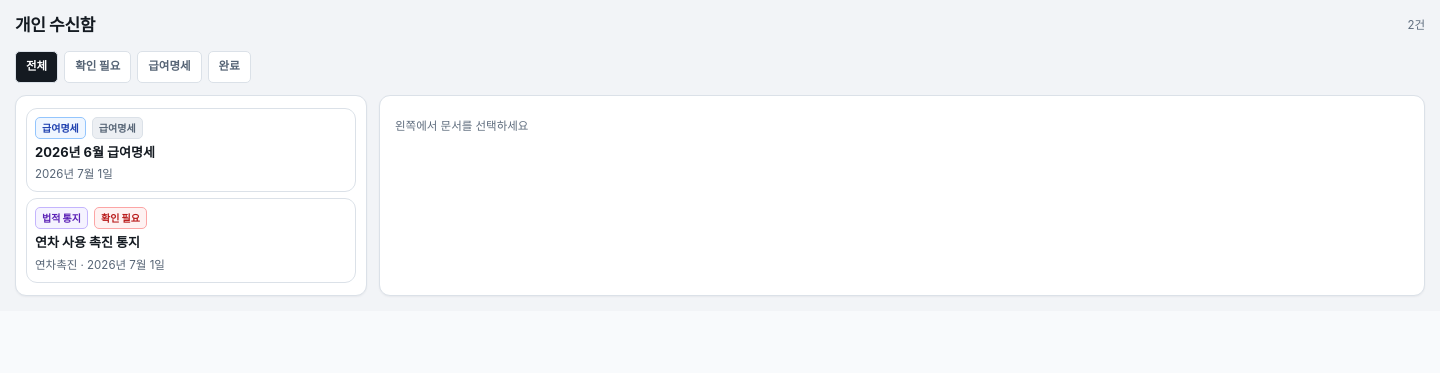
Scenario: InboxBody › does not let a receipt confirmation overwrite a newly selected document
Click the text "연차 사용 촉진 통지": (87,242) [35,234,140,250]
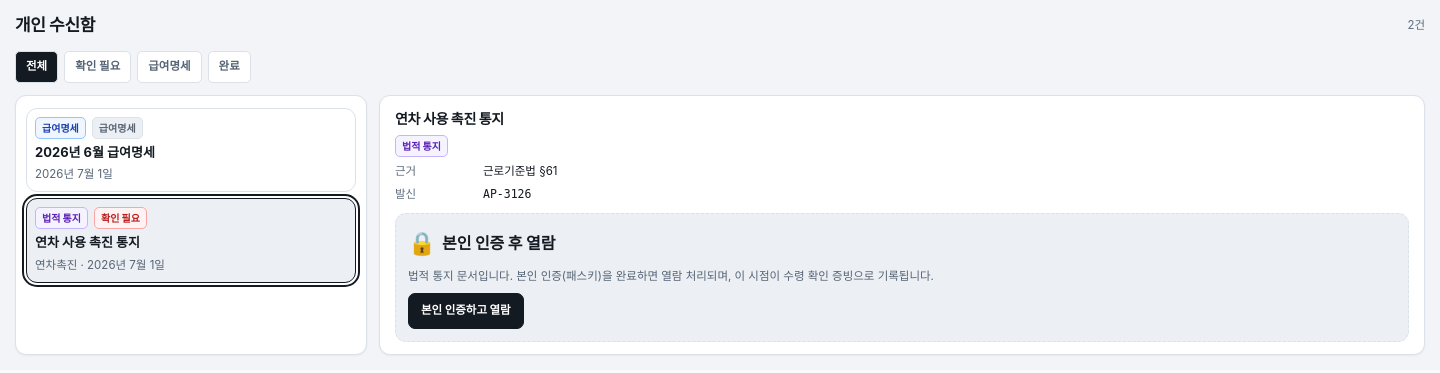
Click the button "본인 인증하고 열람": (466,311) [408,293,524,329]
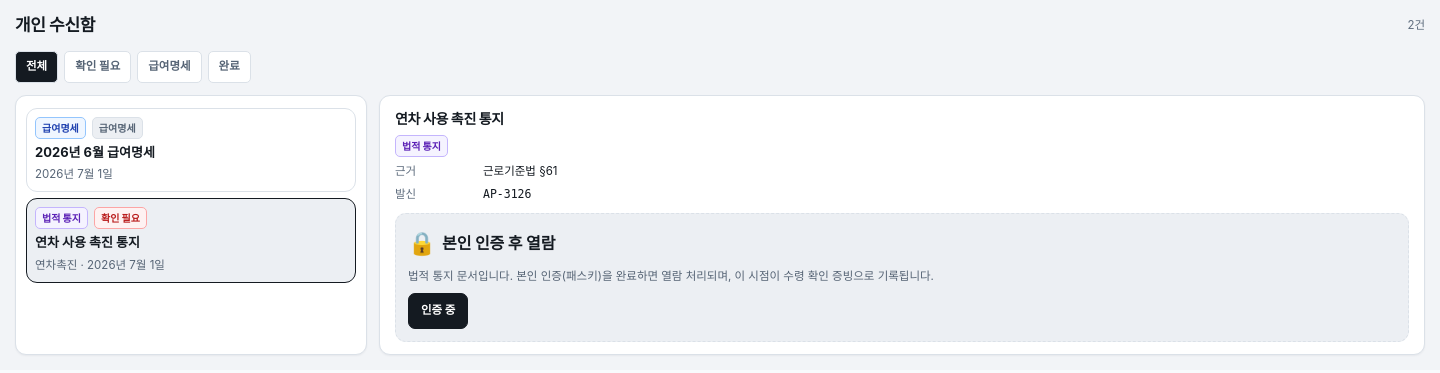
Click the text "2026년 6월 급여명세": (95,152) [35,144,155,160]
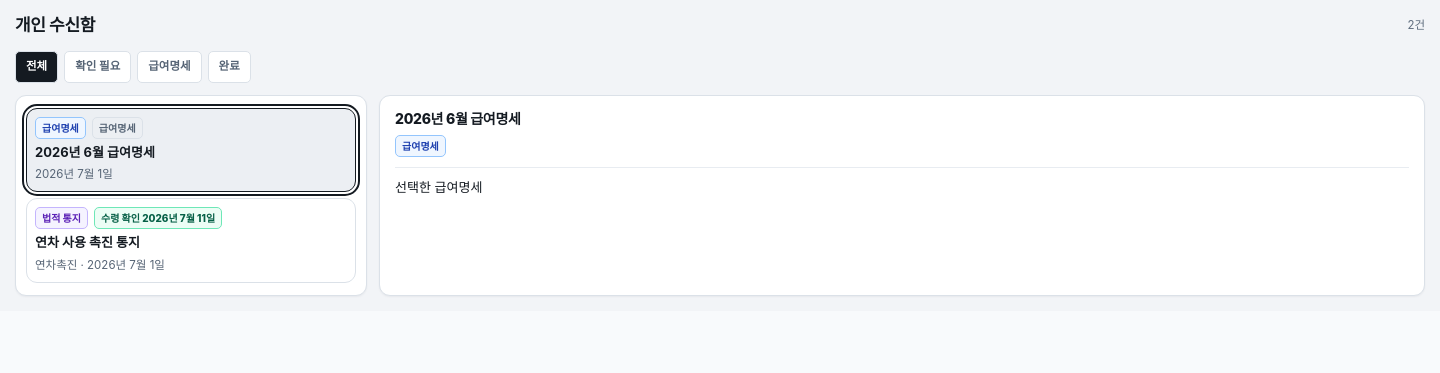
expect the text "선택한 급여명세" is shown: met, box [395,178,482,194]
